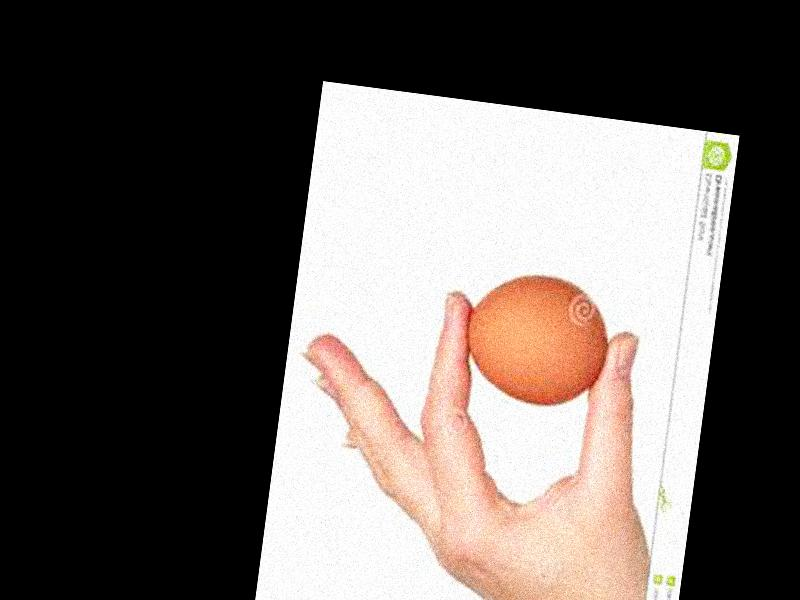Eggs: (458, 265, 617, 415)
